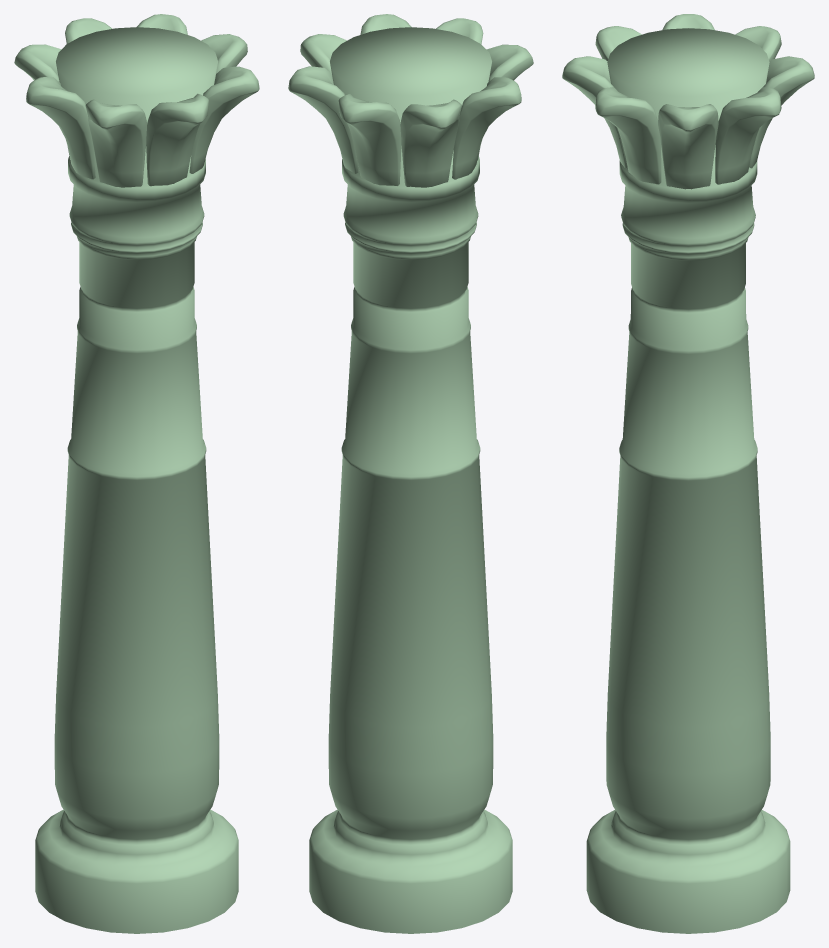
The model's file is pillar.fbx.
The picture shows the model from 3 angles, left to right: view 1: azimuth 30°, elevation 25°; view 2: azimuth 150°, elevation 25°; view 3: azimuth 270°, elevation 25°; orthographic projection.
Visible parts, largest first — view 1: 1_low; view 2: 1_low; view 3: 1_low.
Boxes of the visible parts, box(x1,y1,x2,y2) form: 1_low: box(14, 14, 259, 933); 1_low: box(288, 14, 533, 933); 1_low: box(562, 14, 814, 933).
Bounding box in the file's own units: 31.08 × 31.08 × 113.
